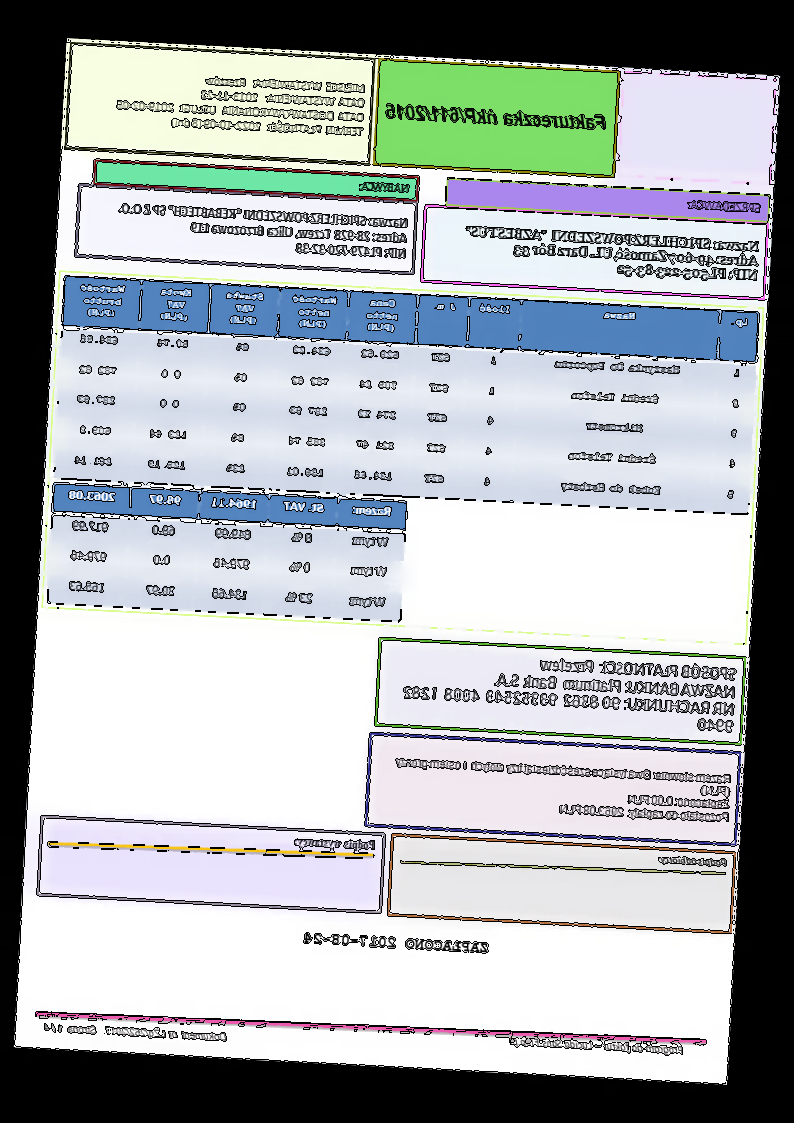Table: (52, 273, 762, 517), (44, 480, 411, 624)
TextBox: (396, 644, 741, 737), (387, 752, 735, 826), (462, 219, 763, 288), (111, 197, 412, 265), (109, 65, 369, 142), (382, 97, 610, 137), (39, 1016, 233, 1049), (300, 928, 492, 958), (505, 1031, 689, 1060), (291, 830, 380, 858), (686, 193, 767, 218), (657, 849, 734, 874), (357, 176, 413, 198)
